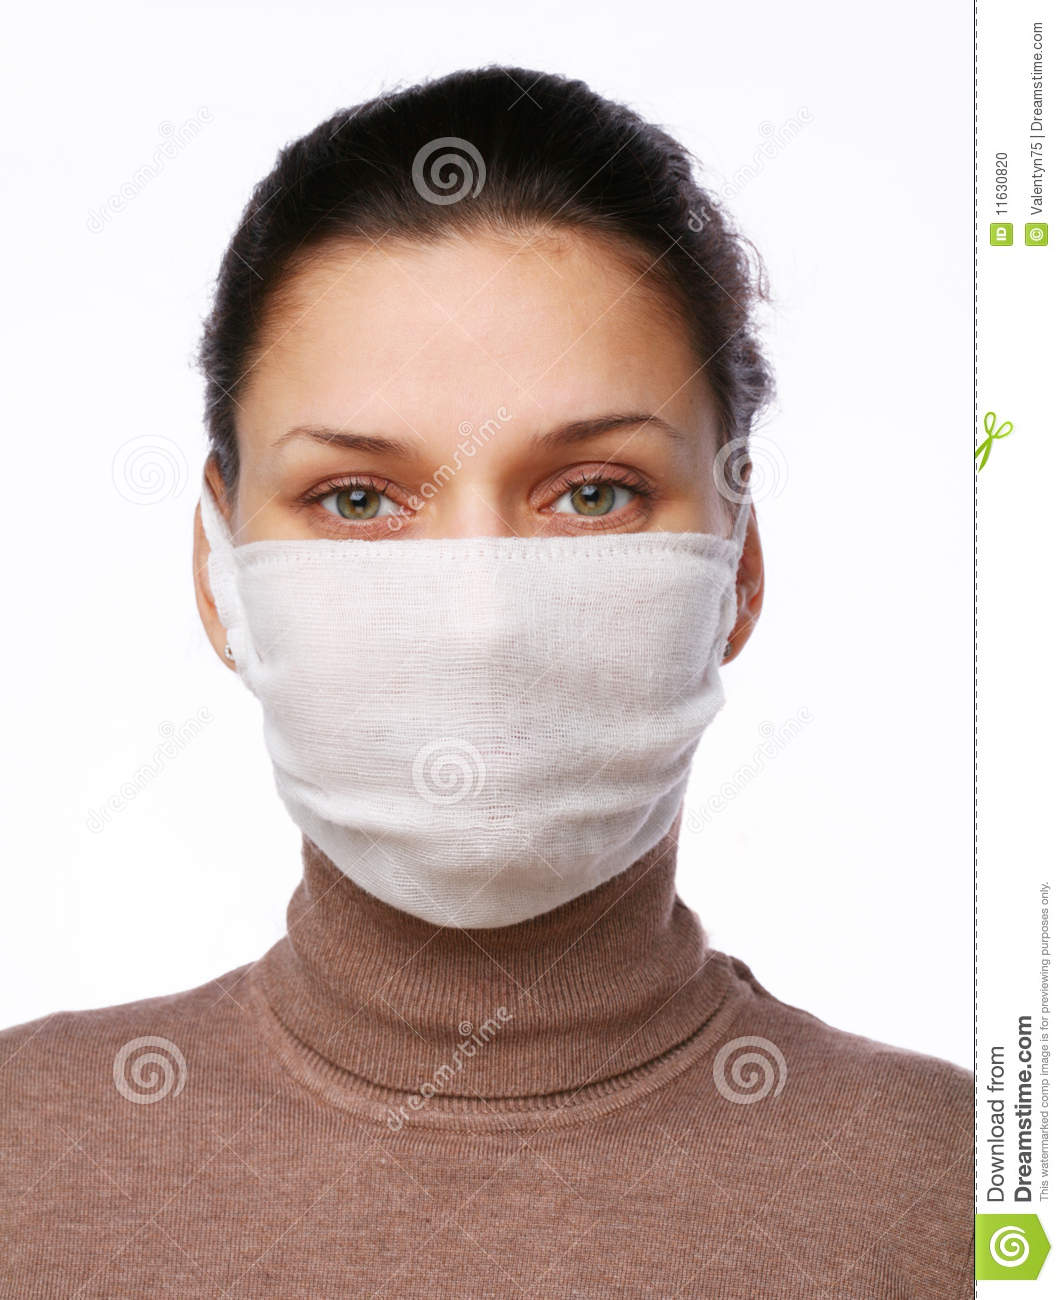mask: (219, 532, 730, 932)
